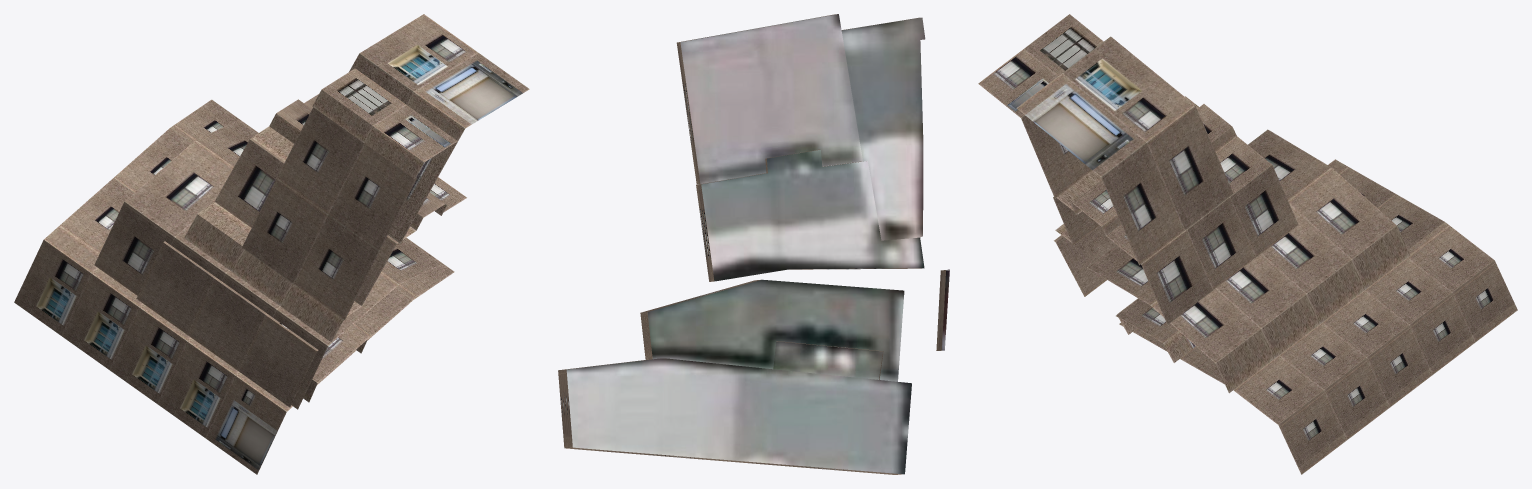
3 views of the same model, side by side, from view 1: azimuth 30°, elevation 25°; view 2: azimuth 150°, elevation 25°; view 3: azimuth 270°, elevation 25° (orthographic). The views are drawn at different scales.
Size of the model in its own units: 23.25 by 23.76 by 30.1.
Materials: 30 (30 with a texture image).
